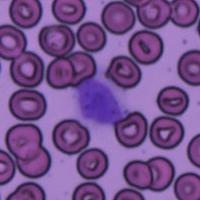L: (74, 76, 128, 127)
